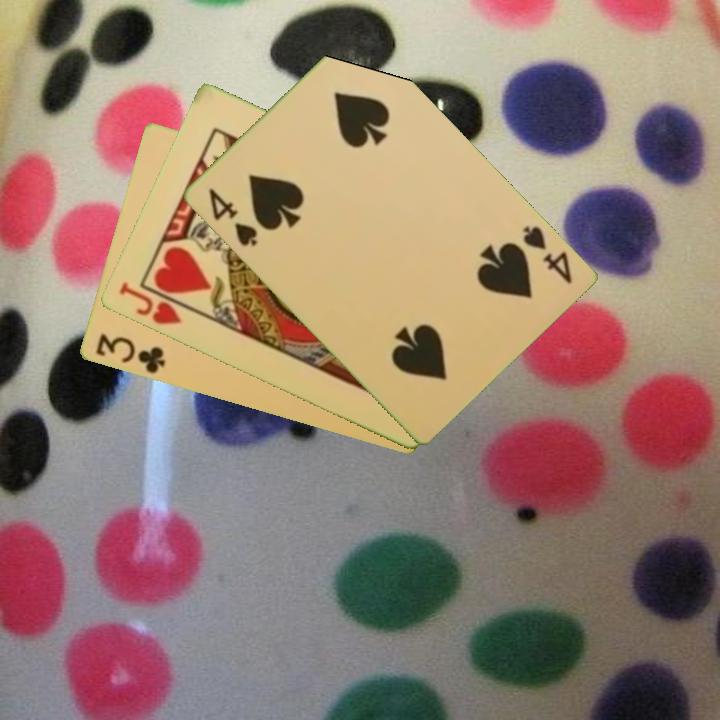3c: (91, 330, 168, 377)
4s: (518, 222, 575, 288), (204, 184, 260, 250)
Jh: (115, 278, 184, 328)
